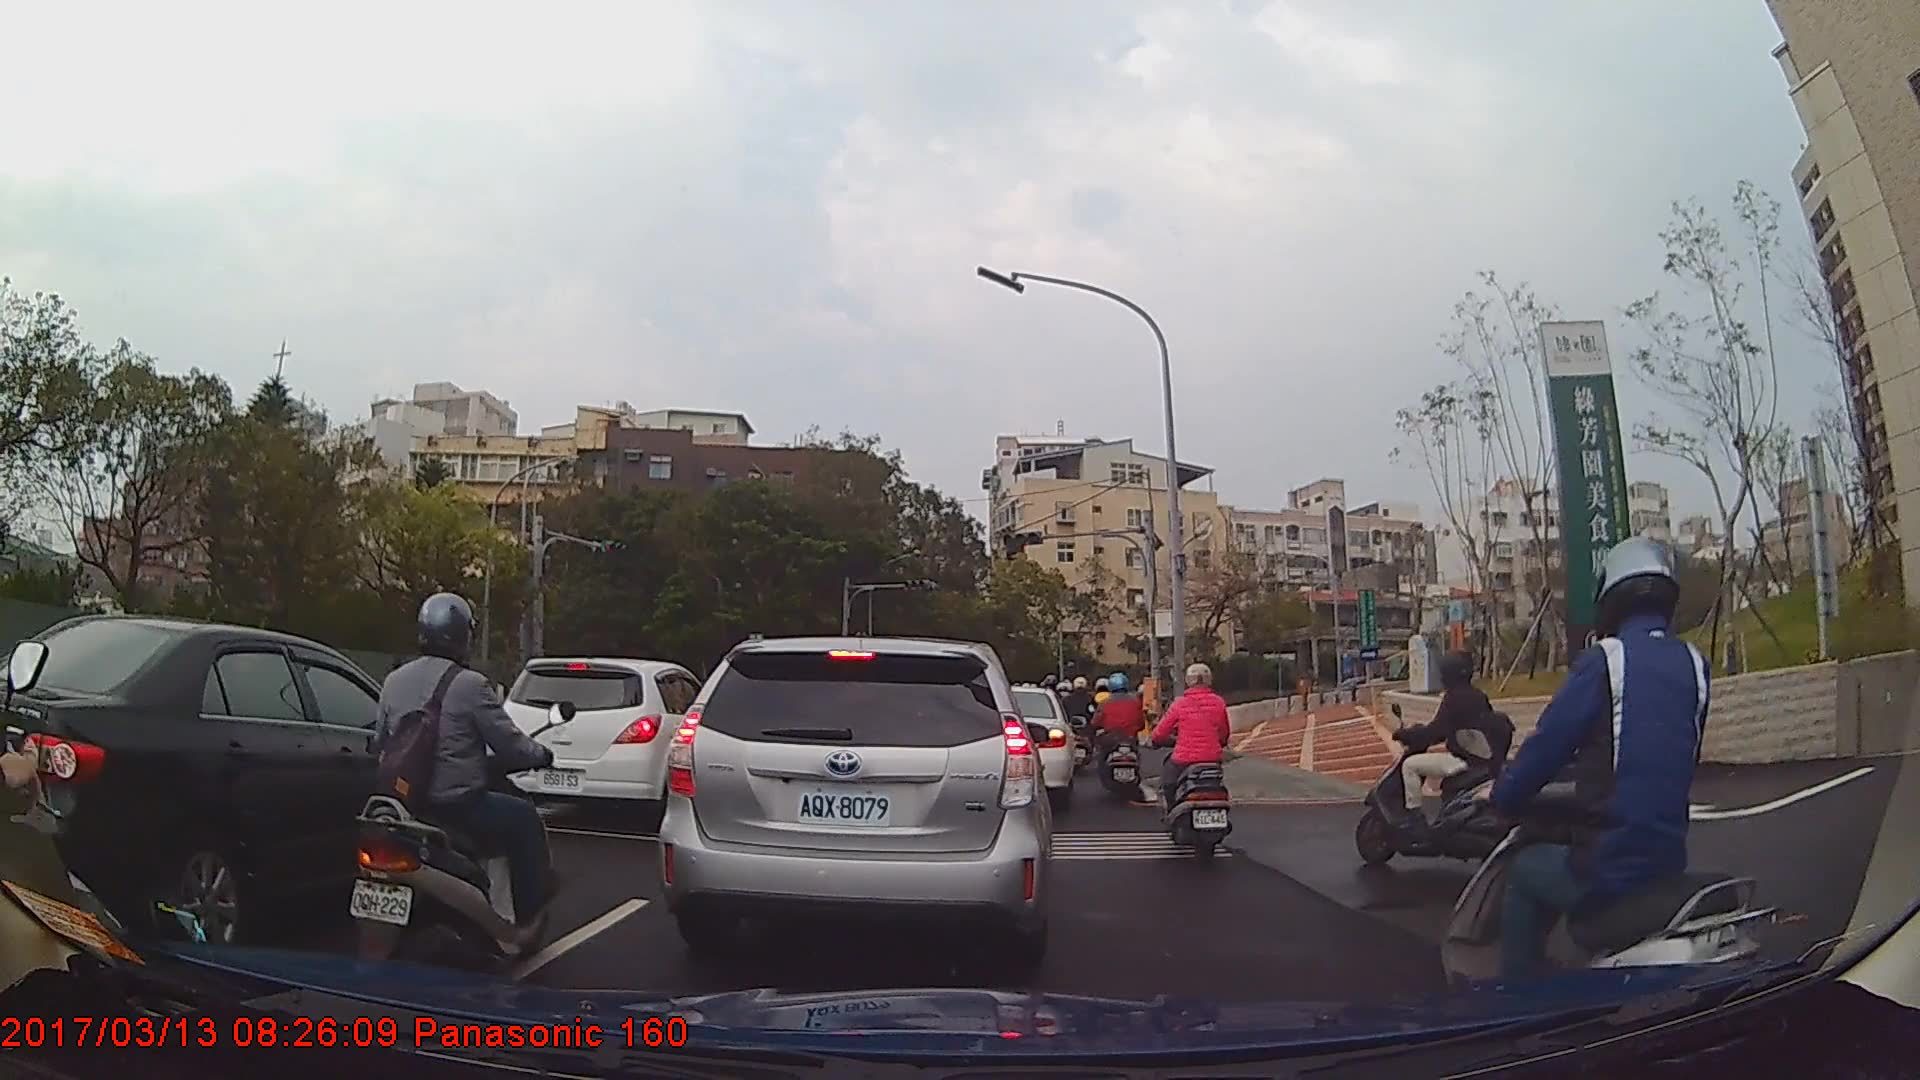rider: (1435, 536, 1797, 1072), (347, 589, 558, 992), (1354, 653, 1545, 871), (1157, 660, 1232, 864), (1092, 669, 1152, 810), (1067, 674, 1105, 775)
vehicle: (0, 611, 489, 960), (657, 635, 1051, 969), (486, 656, 722, 829), (963, 686, 1076, 808)
